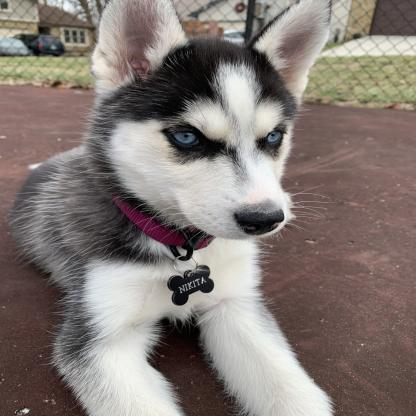dog: (11, 4, 352, 416)
